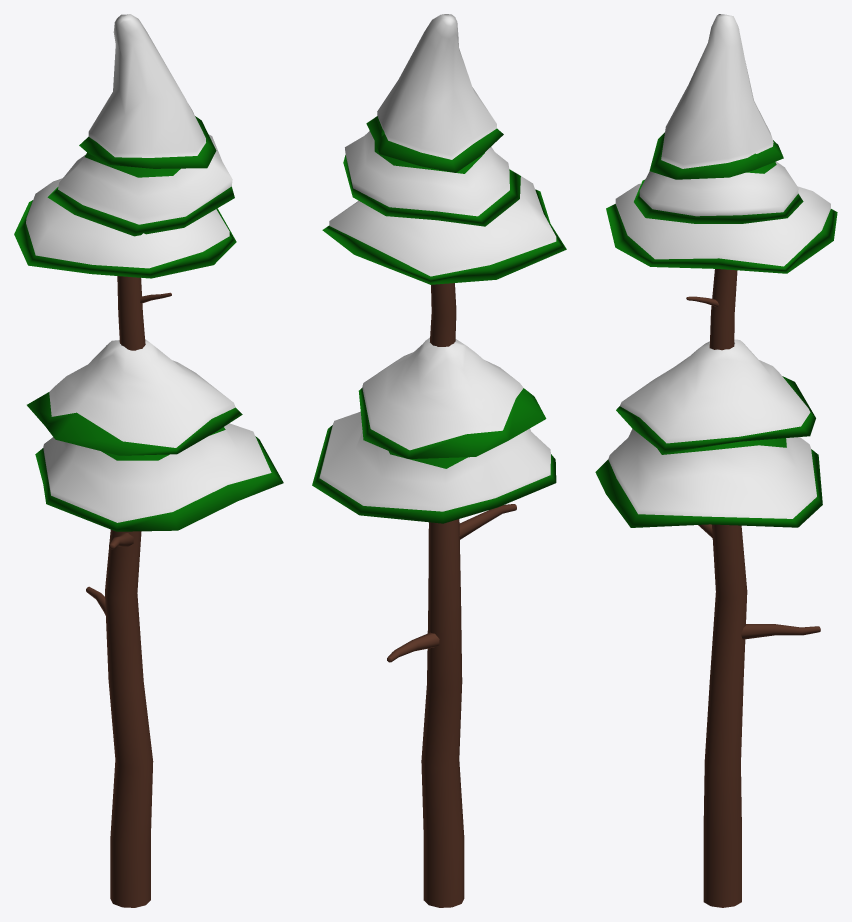
The model's file is PineTreeB3.fbx.
3 views of the same model, side by side, from view 1: azimuth 30°, elevation 25°; view 2: azimuth 150°, elevation 25°; view 3: azimuth 270°, elevation 25° (orthographic).
Parts seen in each view (by area): view 1: leaves5, trunk6; view 2: leaves5, trunk6; view 3: leaves5, trunk6.
Part boxes in pixels (x1,y1,x2,y2): leaves5: [14, 14, 283, 531]; trunk6: [86, 276, 171, 907]; leaves5: [312, 14, 566, 523]; trunk6: [387, 283, 516, 907]; leaves5: [595, 14, 837, 527]; trunk6: [686, 269, 820, 907].
Size of the model in its own units: 725 by 2605 by 647.
